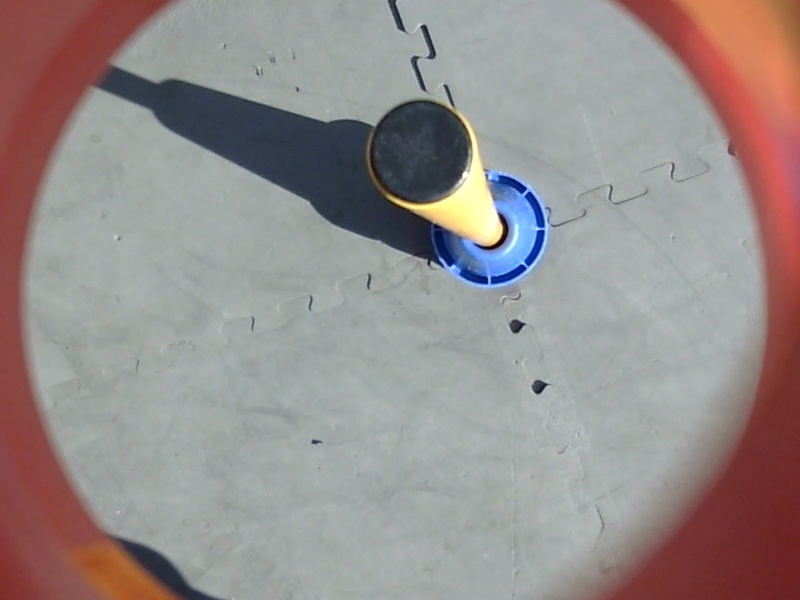tip: (360, 93, 481, 212)
